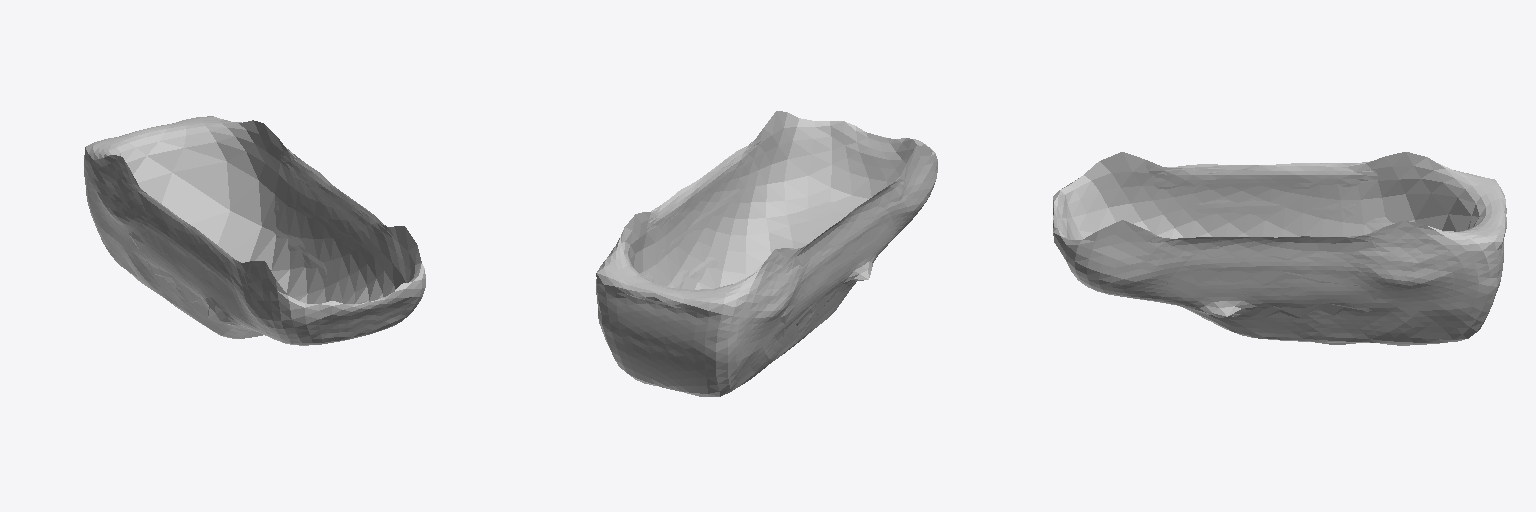
Rendered from suv_deformed.obj.
3 renders of one model, left to right at view 1: azimuth 30°, elevation 25°; view 2: azimuth 150°, elevation 25°; view 3: azimuth 270°, elevation 25°, orthographic.
Bounding box in the file's own units: 1.44 × 1.28 × 3.74.